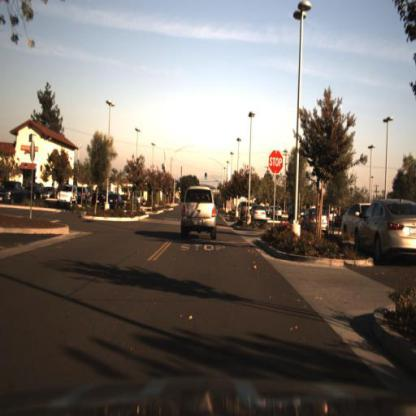car: (355, 194, 415, 265), (179, 181, 221, 245), (298, 205, 333, 238), (337, 198, 361, 244), (307, 205, 331, 237), (57, 183, 78, 208), (23, 184, 50, 203), (87, 187, 105, 213), (111, 193, 132, 214), (127, 186, 146, 207), (250, 204, 268, 226), (131, 190, 148, 213), (105, 192, 126, 210), (24, 181, 40, 202), (77, 184, 90, 206), (43, 183, 57, 201)
trafficLight-Green: (204, 170, 209, 182), (177, 182, 182, 192)
